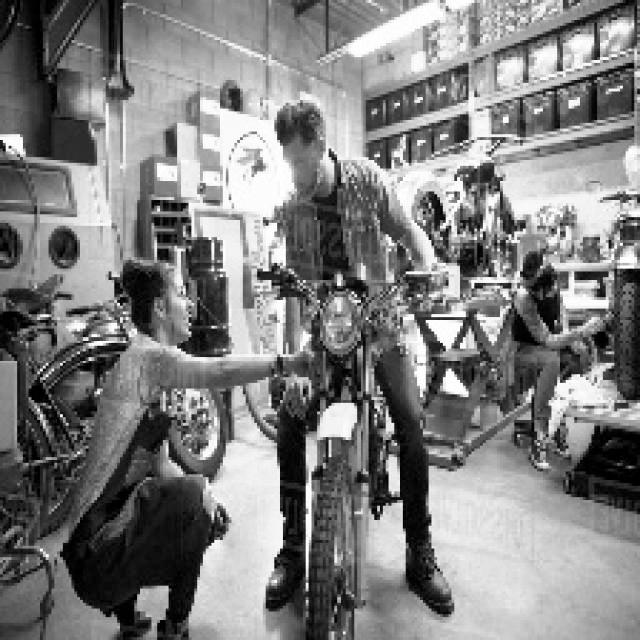Bike: (281, 273, 383, 635)
